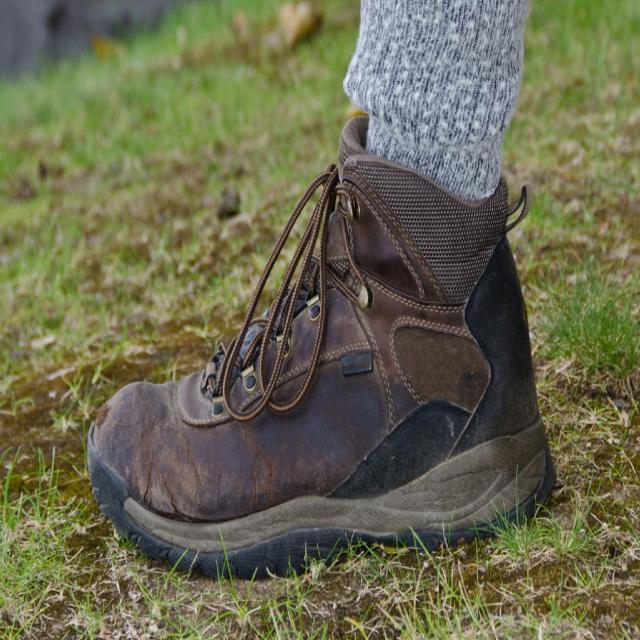shoes: (75, 102, 574, 601)
